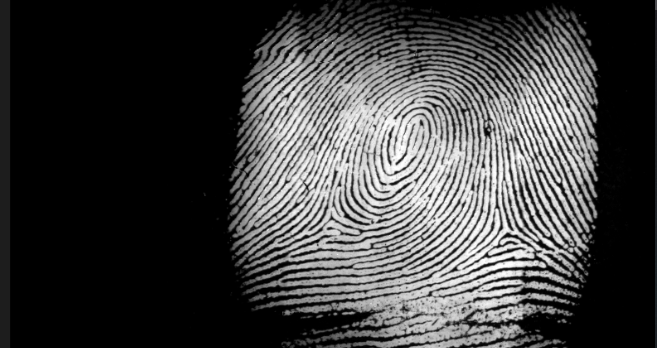nucelo: (401, 105, 436, 149)
verticilo: (311, 207, 354, 232), (493, 224, 524, 249)
